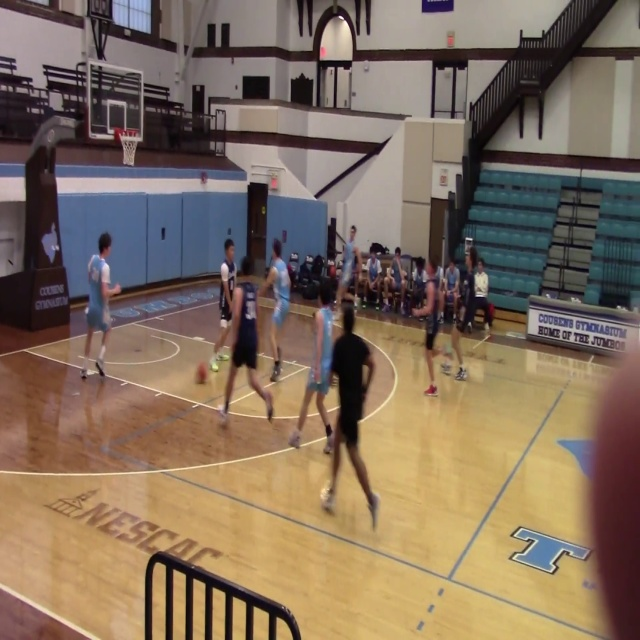Basketball: (196, 362, 207, 384), (210, 360, 219, 372), (113, 283, 121, 294)
